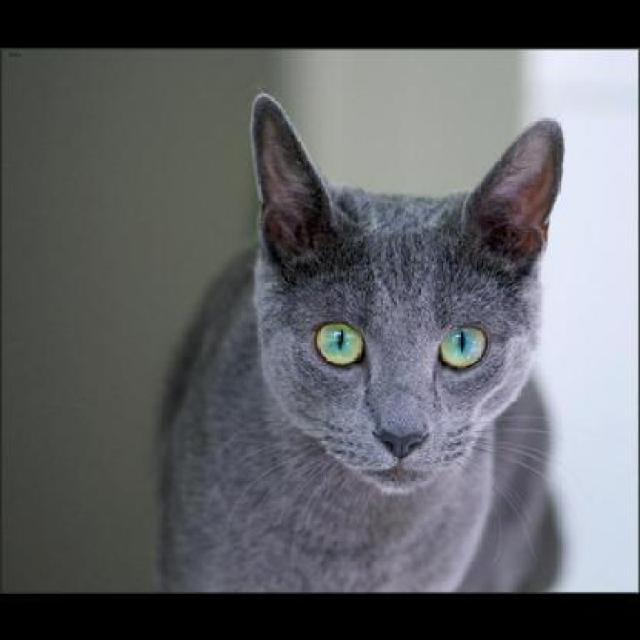unauthorized: (152, 90, 566, 592)
